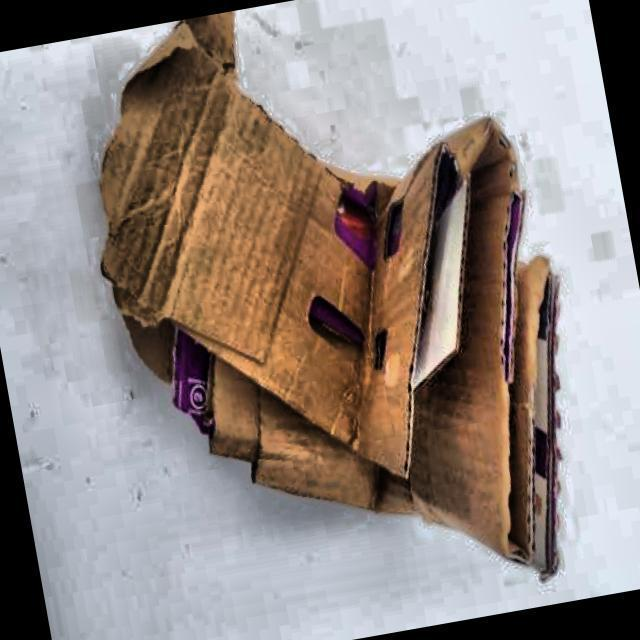cardboard: (60, 0, 610, 640)
